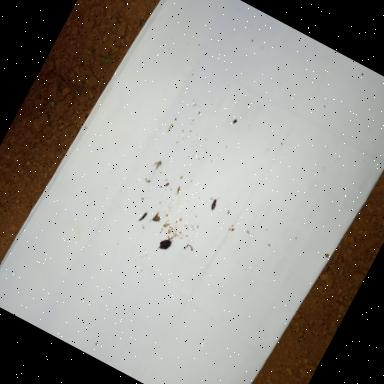pbw: (174, 186, 181, 195), (166, 122, 172, 132)
